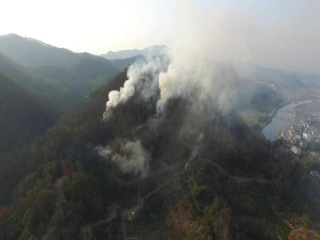smoke: (96, 20, 282, 180)
